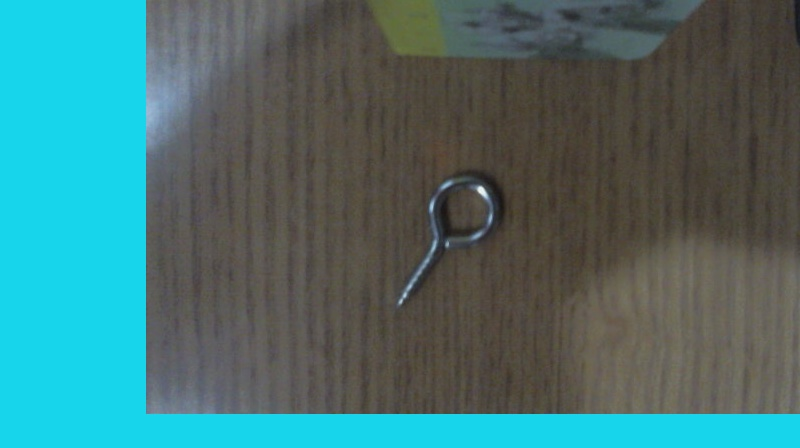O001: (386, 168, 505, 313)
